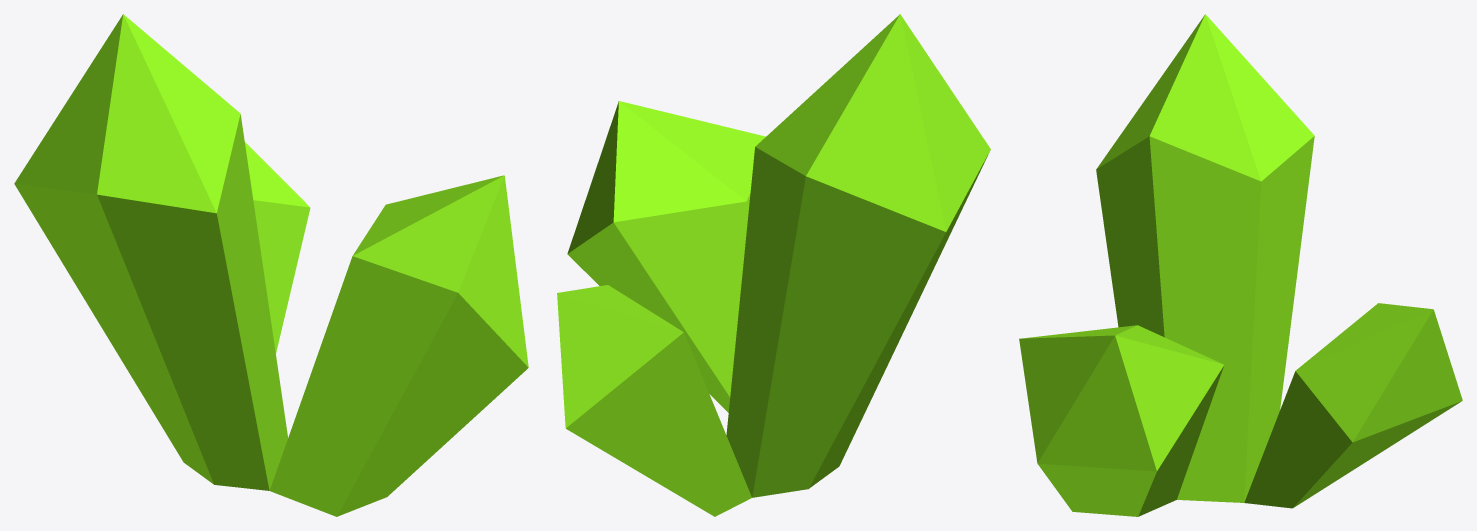
The model's file is Crystal-B04.fbx.
3 views of the same model, side by side, from view 1: azimuth 30°, elevation 25°; view 2: azimuth 150°, elevation 25°; view 3: azimuth 270°, elevation 25° (orthographic). The views are drawn at different scales.
Visible parts, largest first — view 1: Crystal-B04; view 2: Crystal-B04; view 3: Crystal-B04.
Part boxes in pixels (x1=…): Crystal-B04: x1=14, y1=14, x2=528, y2=516; Crystal-B04: x1=557, y1=14, x2=990, y2=516; Crystal-B04: x1=1019, y1=14, x2=1462, y2=516.
Size of the model in its own units: 76.35 by 80.94 by 76.69.
